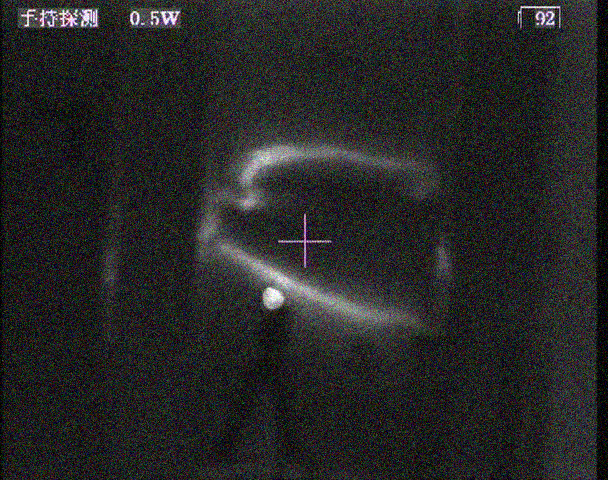my: (260, 285, 286, 310)
